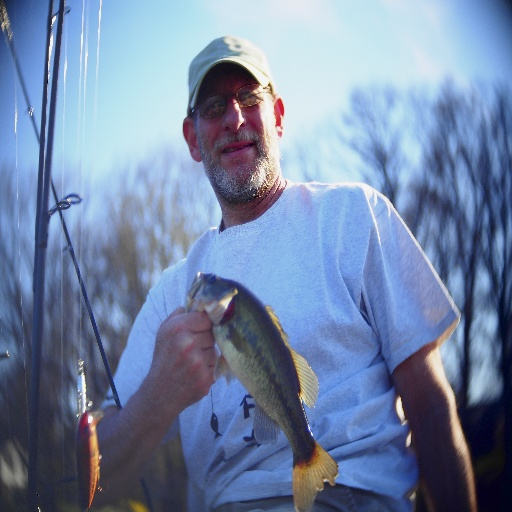hand: (114, 308, 210, 446)
